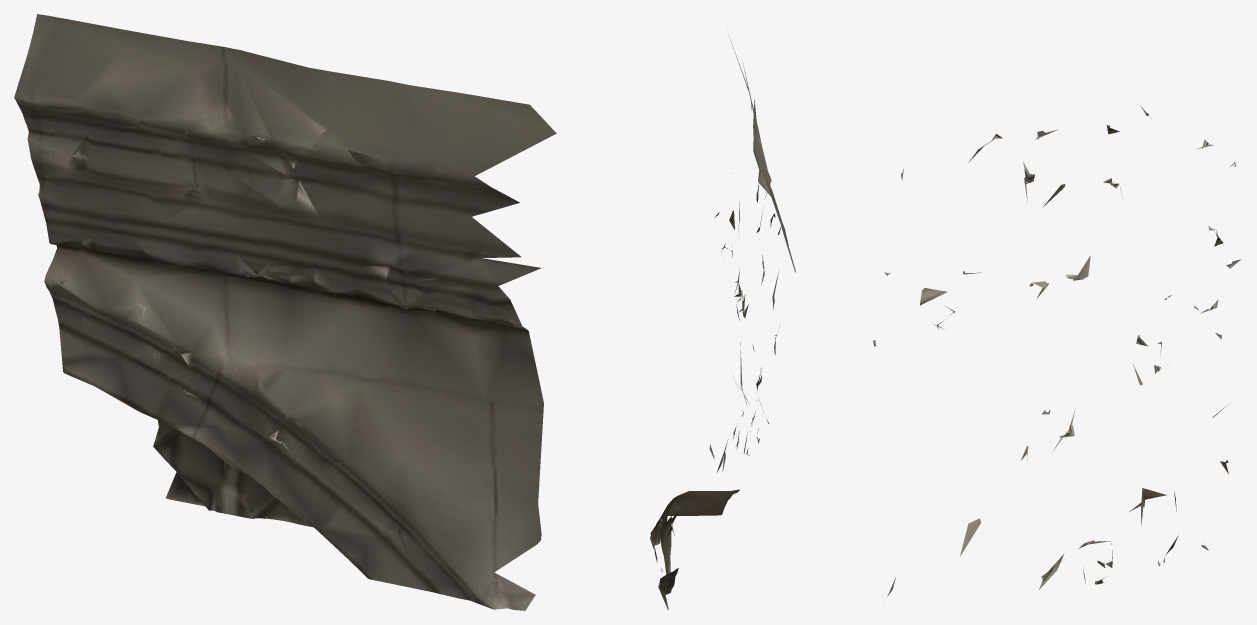
The picture shows the model from 3 angles, left to right: view 1: azimuth 30°, elevation 25°; view 2: azimuth 150°, elevation 25°; view 3: azimuth 270°, elevation 25°; orthographic projection. The views are drawn at different scales.
Size of the model in its own units: 1.46 by 2.27 by 1.82.
1 material, 1 textured.
